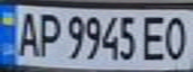4: (100, 12, 121, 61)
5: (118, 12, 142, 62)
9: (60, 11, 84, 61), (81, 12, 103, 61)
A: (12, 8, 42, 57)
E: (139, 12, 172, 62)
O: (160, 12, 193, 62)
P: (33, 9, 63, 58)
